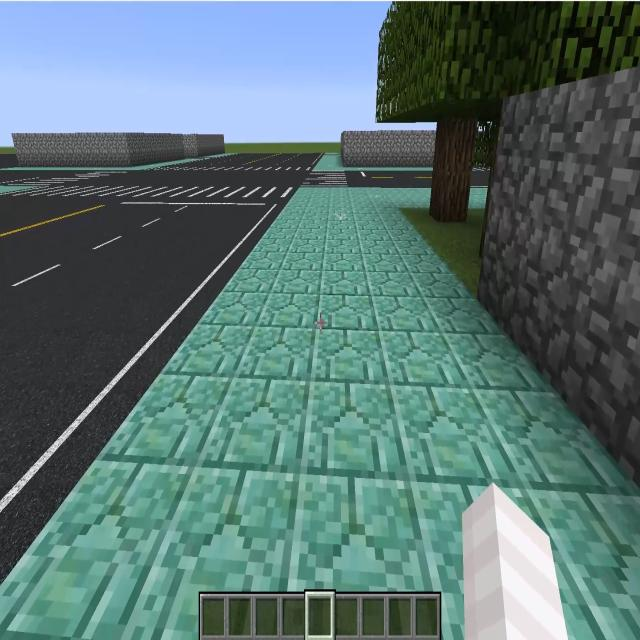crosswalk: (5, 184, 293, 201), (16, 172, 112, 183), (145, 165, 311, 171), (302, 172, 347, 186)
road: (2, 197, 283, 574), (73, 171, 310, 187), (181, 152, 324, 166), (347, 169, 433, 185), (2, 171, 90, 184)
sidewalk: (0, 186, 640, 639), (0, 160, 195, 172), (312, 152, 416, 172), (468, 187, 487, 209), (0, 183, 36, 193), (417, 164, 432, 171), (0, 154, 12, 159)
